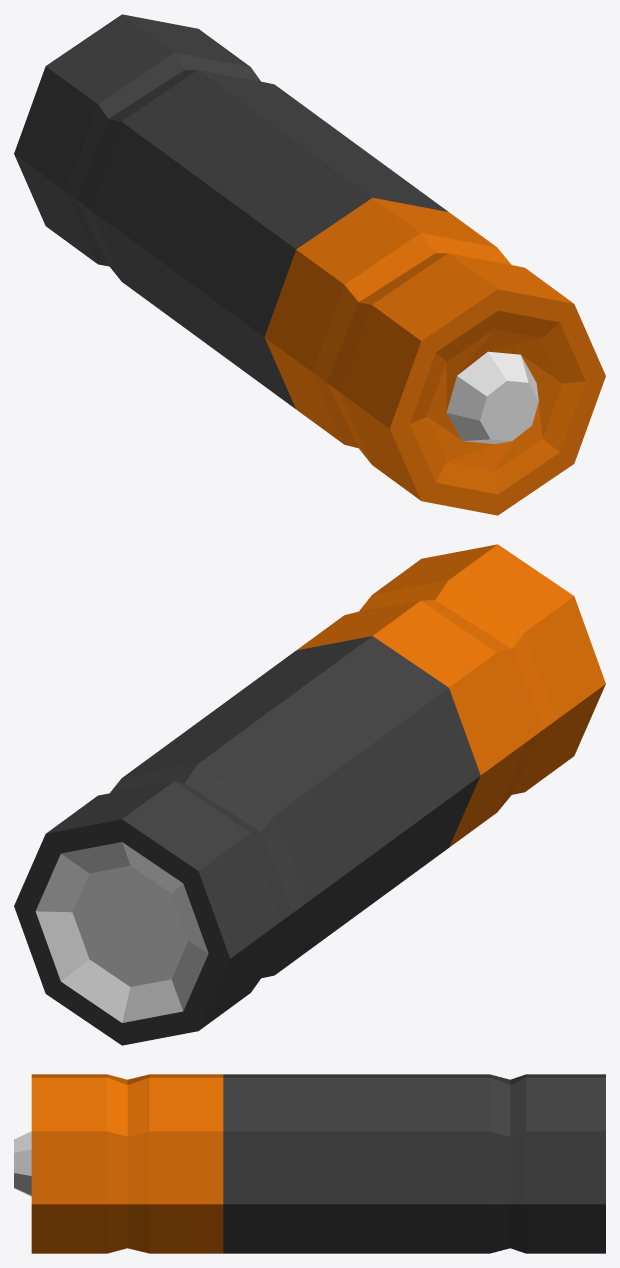
Rendered from battery.fbx.
3 renders of one model, top to bottom at view 1: azimuth 30°, elevation 25°; view 2: azimuth 150°, elevation 25°; view 3: azimuth 270°, elevation 25°, orthographic. The views are drawn at different scales.
Visible parts, largest first — view 1: Cylinder; view 2: Cylinder; view 3: Cylinder.
Boxes of the visible parts, x1,y1,x2,y2 form: Cylinder: (14, 14, 605, 515); Cylinder: (14, 544, 605, 1045); Cylinder: (14, 1074, 605, 1253).
Size of the model in its own units: 32.43 by 32.43 by 101.
